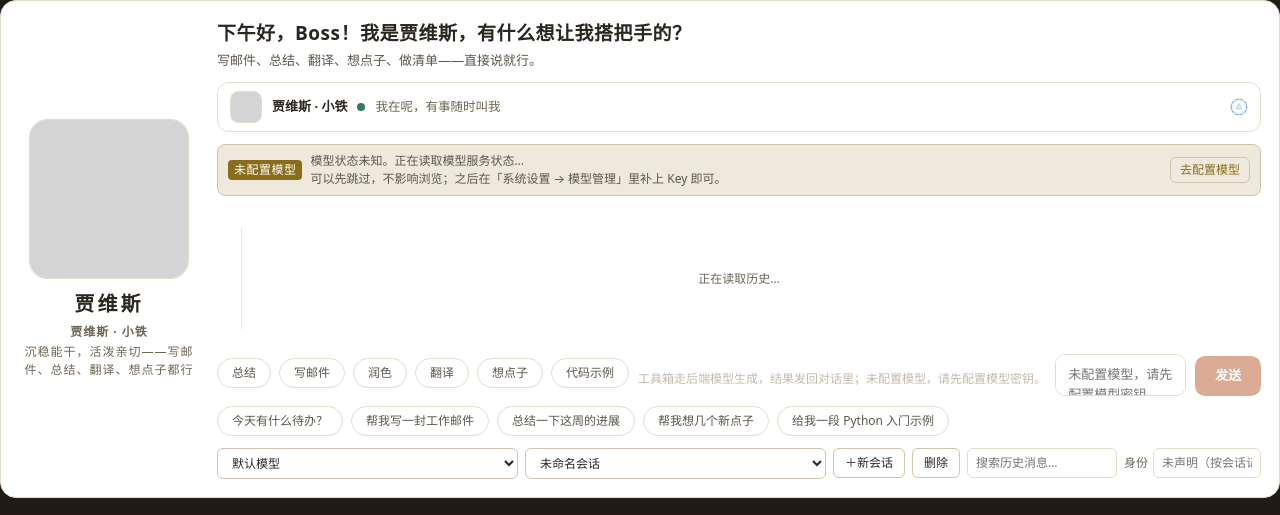
ChatPanel 结束帧 › done.error 带盘符路径与英文异常名：卡片只显示中文结论，不渲染 raw 原文
Type "你好" into the text box with placeholder "未配置模型，请先配置模型密钥".
click(1121, 375); type("你好")  # box 1055,354 -> 1186,396
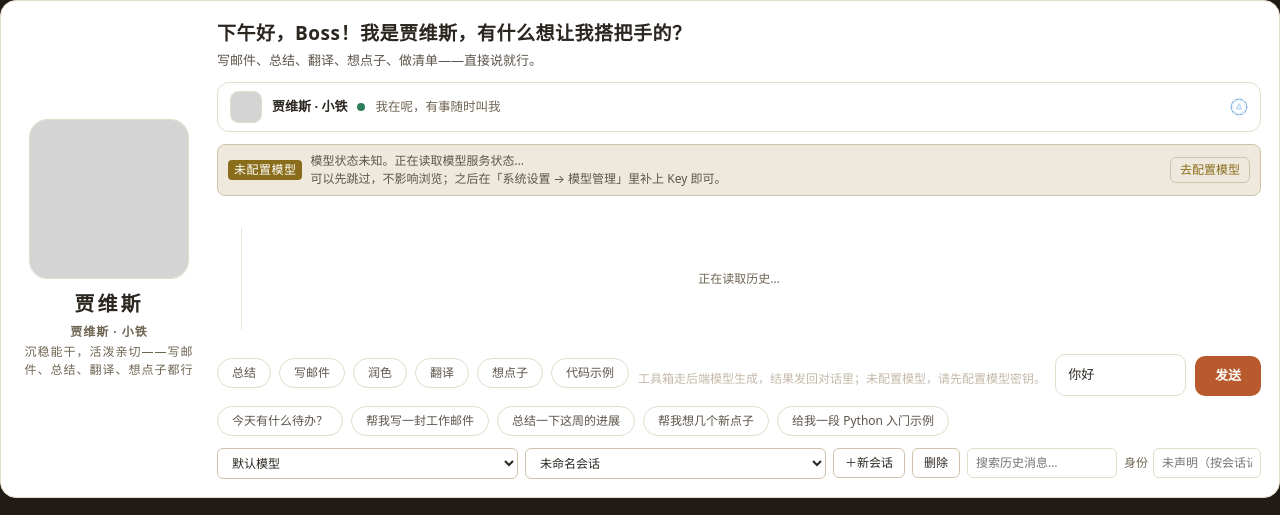
Click the button "发送".
click(1228, 376)  # box 1195,356 -> 1261,396
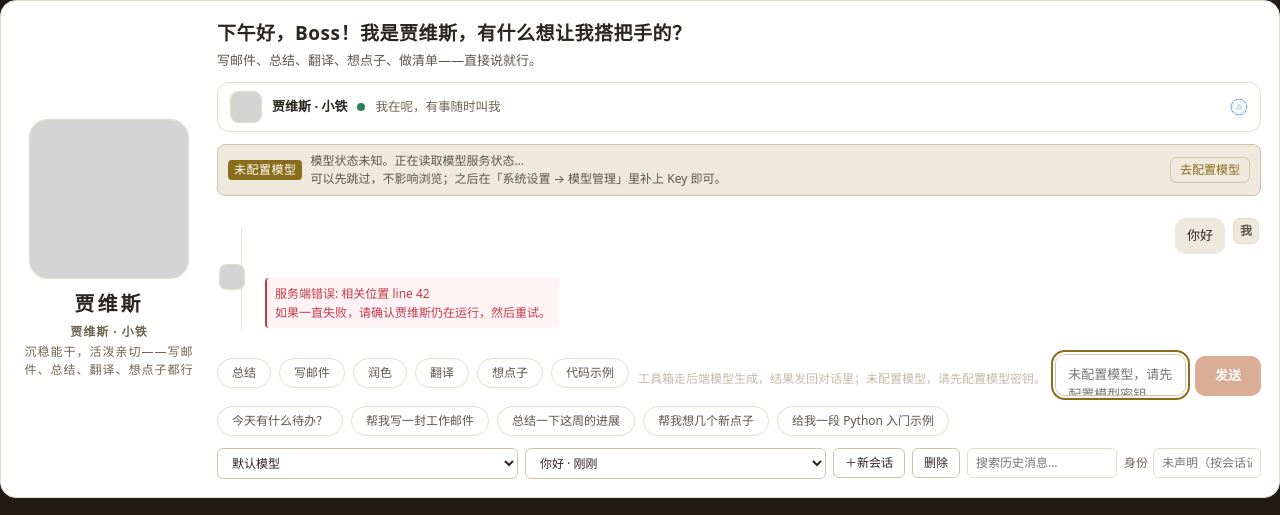
Now the text "服务端错误: 相关位置 line 42" is shown, box 275,284 -> 430,302
